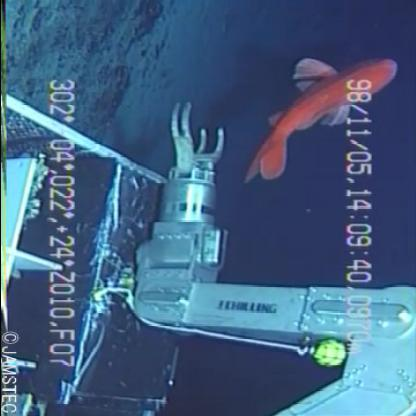Bio: (236, 52, 401, 184)
